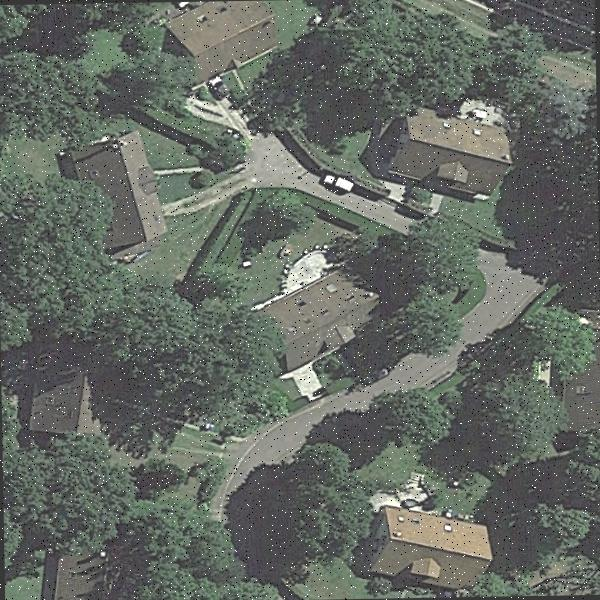Buildings: (370, 501, 494, 583), (274, 273, 378, 364), (397, 110, 501, 189), (96, 137, 160, 248), (168, 6, 267, 72), (36, 347, 93, 440), (52, 548, 104, 600), (562, 375, 600, 436)
